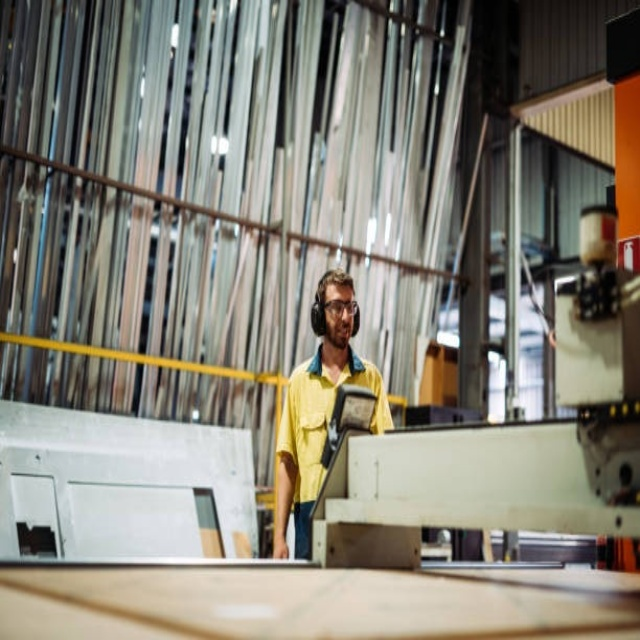Gafas: (323, 300, 358, 317)
Sin_mascara: (335, 318, 353, 340)
